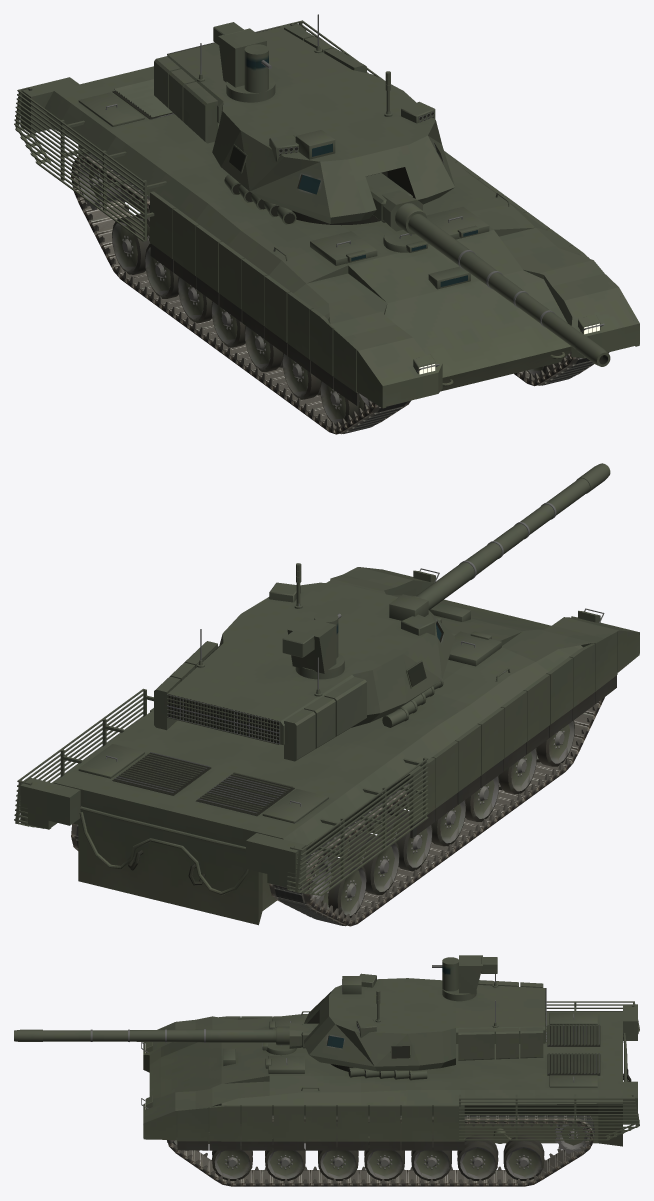
3 renders of one model, top to bottom at view 1: azimuth 30°, elevation 25°; view 2: azimuth 150°, elevation 25°; view 3: azimuth 270°, elevation 25°, orthographic. The views are drawn at different scales.
Parts seen in each view (by area): view 1: hull_shell, turret_shell, band_r, gun_shell, disc_r10, band_l, disc_r3, disc_r4, disc_r9, disc_r1, disc_r6, disc_r7 (+1 smaller); view 2: hull_shell, turret_shell, band_r, gun_shell, disc_r9, disc_r10, disc_r7, disc_r3, disc_r1, disc_r6, disc_r4; view 3: hull_shell, turret_shell, band_l, gun_shell, disc_l10, disc_l9, disc_l7, disc_l6, disc_l4, disc_l3, disc_l1, disc_l11.
Part boxes in pixels (x1=…): hull_shell: x1=14, y1=20, x2=639, y2=408; turret_shell: x1=154, y1=14, x2=454, y2=225; band_r: x1=71, y1=153, x2=411, y2=434; gun_shell: x1=365, y1=173, x2=610, y2=366; disc_r10: x1=112, y1=211, x2=150, y2=274; band_l: x1=514, y1=352, x2=609, y2=386; disc_r3: x1=282, y1=353, x2=320, y2=399; disc_r4: x1=244, y1=325, x2=283, y2=371; disc_r9: x1=145, y1=243, x2=178, y2=298; disc_r1: x1=320, y1=381, x2=368, y2=425; disc_r6: x1=211, y1=301, x2=245, y2=347; disc_r7: x1=178, y1=277, x2=212, y2=322; hull_shell: x1=14, y1=567, x2=639, y2=925; turret_shell: x1=154, y1=563, x2=454, y2=761; band_r: x1=269, y1=697, x2=604, y2=926; gun_shell: x1=412, y1=463, x2=610, y2=609; disc_r9: x1=344, y1=831, x2=399, y2=894; disc_r10: x1=316, y1=856, x2=366, y2=918; disc_r7: x1=377, y1=809, x2=432, y2=870; disc_r3: x1=498, y1=748, x2=537, y2=794; disc_r1: x1=536, y1=720, x2=574, y2=766; disc_r6: x1=431, y1=800, x2=466, y2=846; disc_r4: x1=465, y1=775, x2=499, y2=821; hull_shell: x1=141, y1=1001, x2=639, y2=1150; turret_shell: x1=304, y1=955, x2=546, y2=1080; band_l: x1=167, y1=1115, x2=594, y2=1186; gun_shell: x1=14, y1=1023, x2=318, y2=1048; disc_l10: x1=503, y1=1135, x2=544, y2=1180; disc_l9: x1=457, y1=1135, x2=498, y2=1180; disc_l7: x1=411, y1=1135, x2=451, y2=1180; disc_l6: x1=364, y1=1142, x2=404, y2=1180; disc_l4: x1=318, y1=1135, x2=358, y2=1180; disc_l3: x1=265, y1=1139, x2=305, y2=1180; disc_l1: x1=212, y1=1137, x2=252, y2=1180; disc_l11: x1=555, y1=1124, x2=589, y2=1153.
Size of the model in its own units: 4.03 by 3.38 by 10.95.
Materials: 5 (3 with a texture image).
